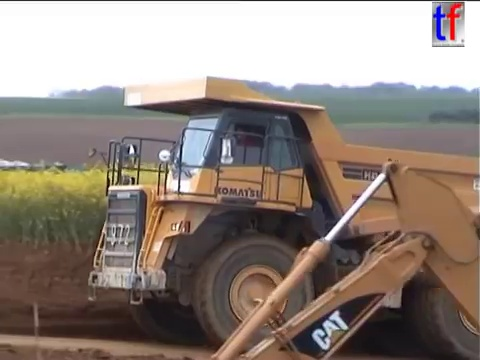excavator: (208, 155, 480, 360)
truck: (84, 73, 480, 360)
